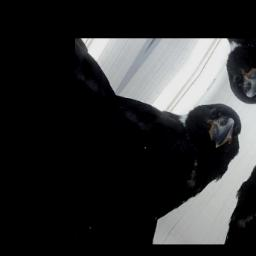Crow: (76, 43, 256, 239)
